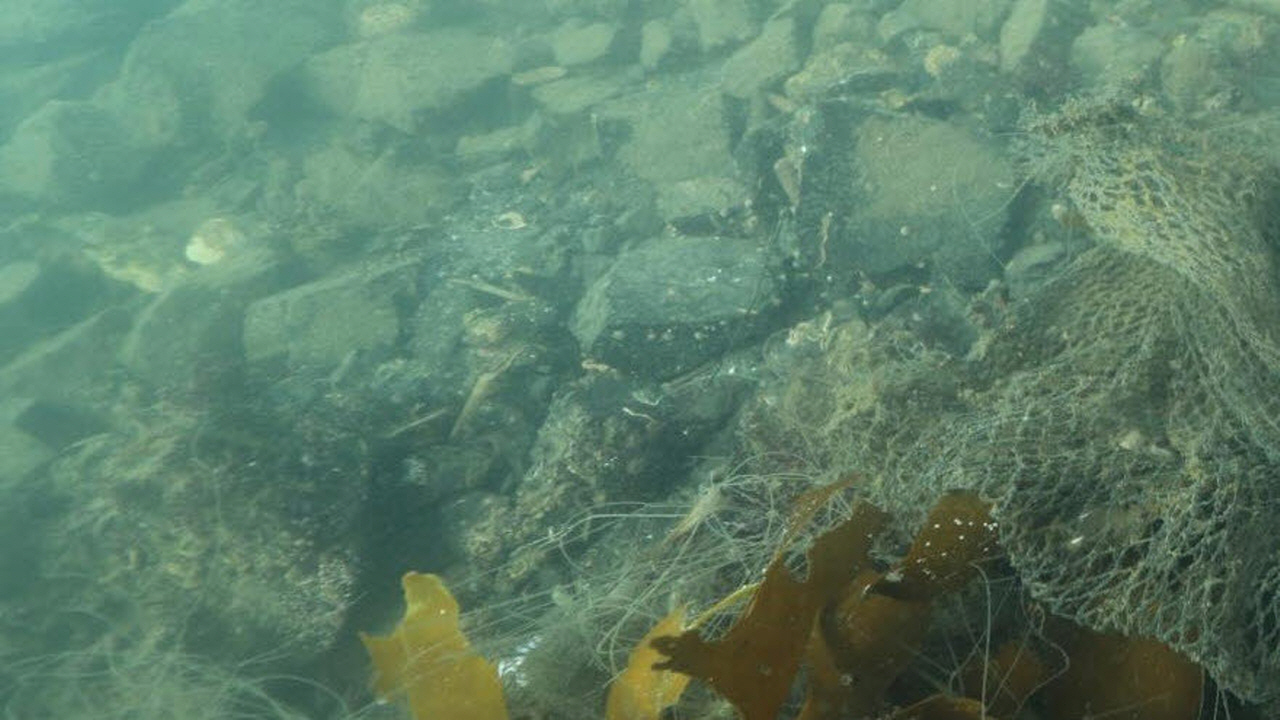fish net: (834, 117, 1278, 698)
